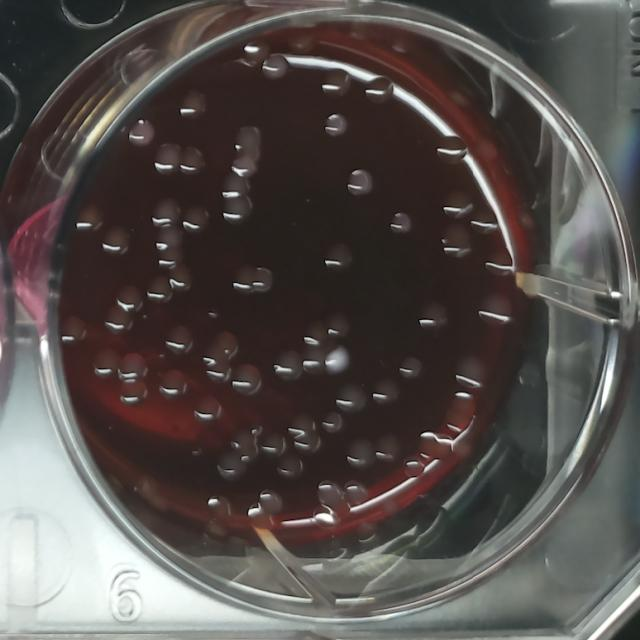Staphylococcus: (321, 341, 353, 377)
